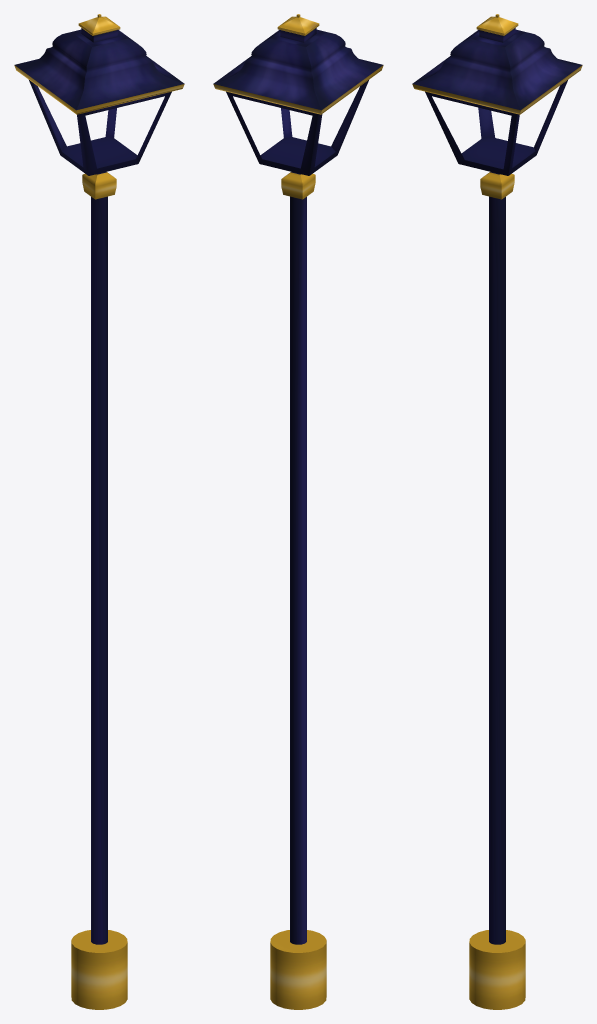
File: lamp.fbx
The picture shows the model from 3 angles, left to right: view 1: azimuth 30°, elevation 25°; view 2: azimuth 150°, elevation 25°; view 3: azimuth 330°, elevation 25°; orthographic projection.
Parts seen in each view (by area): view 1: pCylinder2; view 2: pCylinder2; view 3: pCylinder2.
Part boxes in pixels (box(x1,y1,x2,y2)): pCylinder2: box(14, 14, 184, 1009); pCylinder2: box(213, 14, 383, 1009); pCylinder2: box(412, 14, 582, 1009).
Bounding box in the file's own units: 2.66 × 23.01 × 2.63.
Materials: 1 (1 with a texture image).
